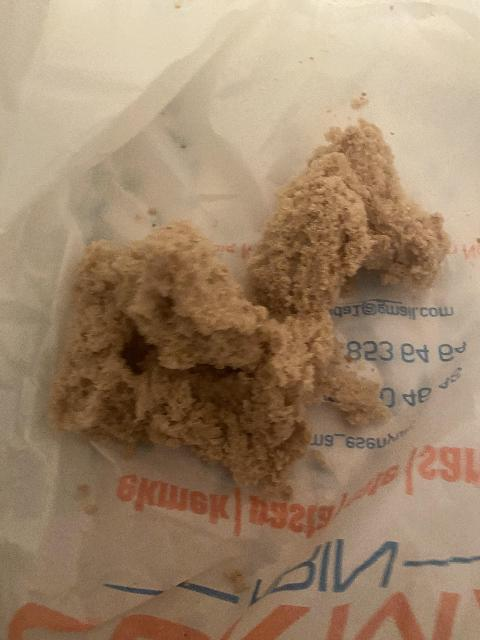Organik: (67, 314, 368, 473), (73, 244, 263, 363), (314, 146, 446, 300), (267, 178, 356, 306)
